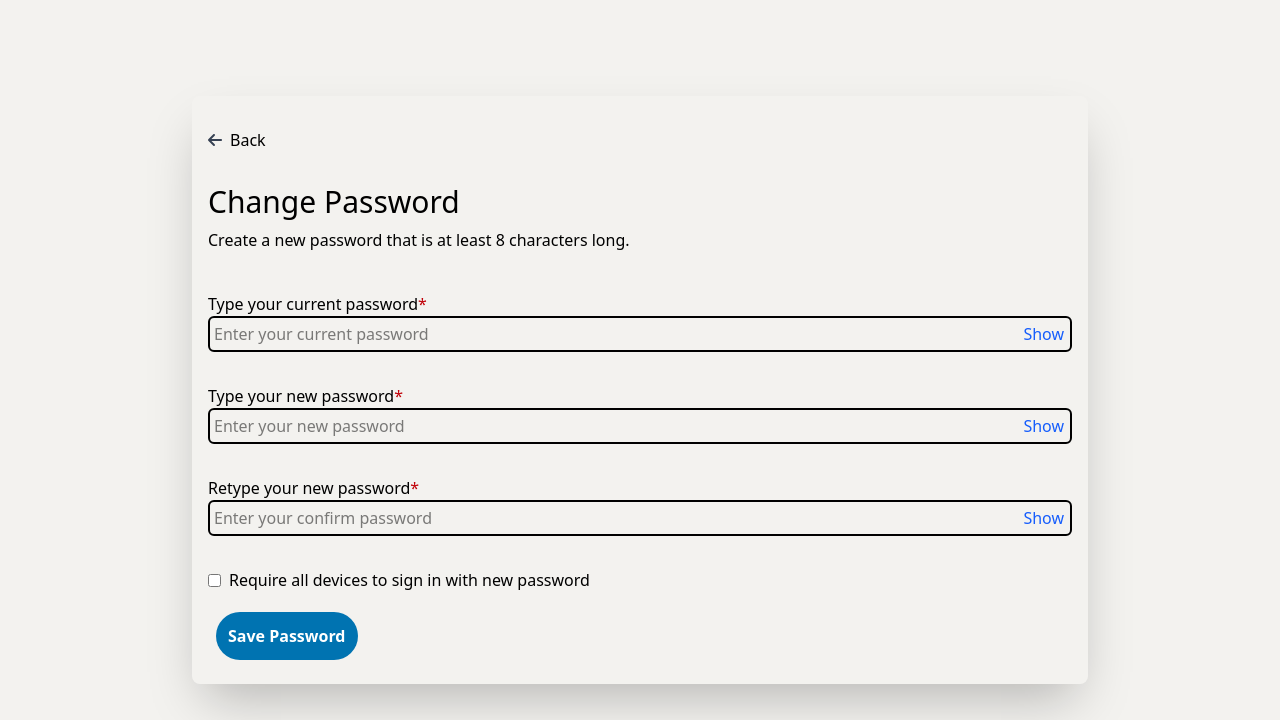
Test: UpdatePasswordForm › shows validation error when passwords don't match
Enter different passwords
In the password field labelled "Type your new password*": {"x": 640, "y": 426} [208,408,1072,444], type "Password123"
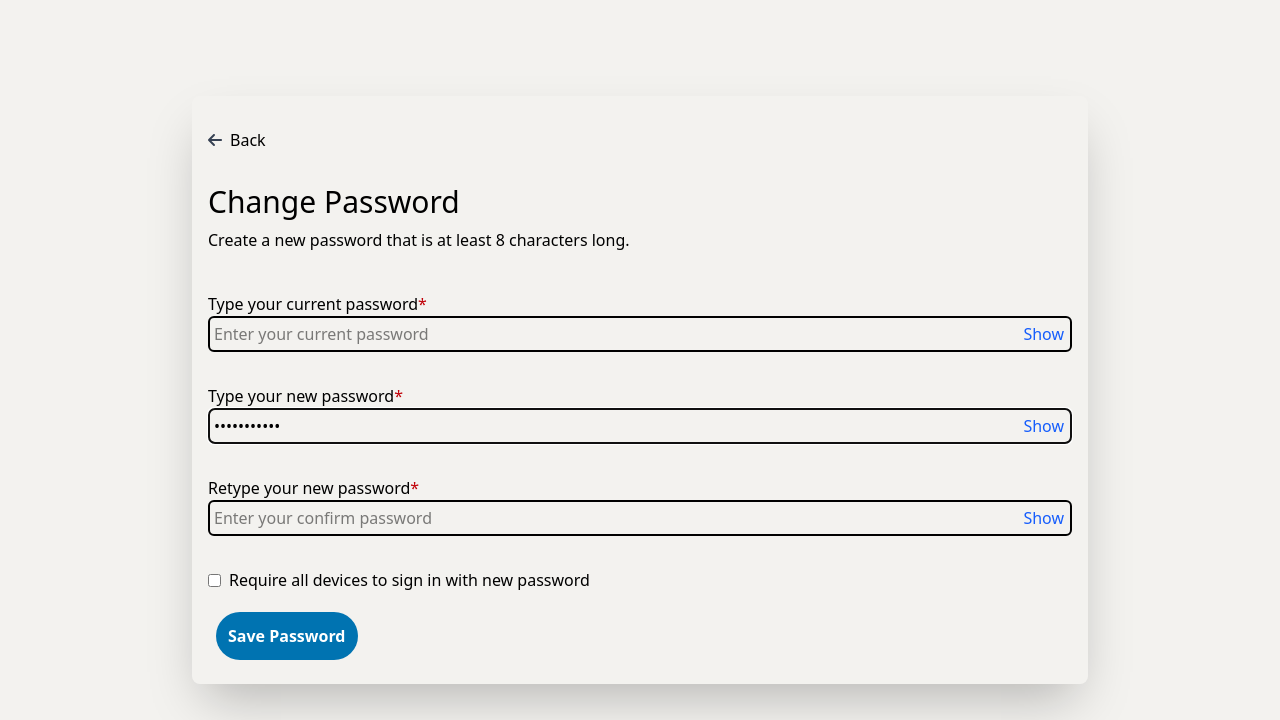
In the password field labelled "Retype your new password*": {"x": 640, "y": 518} [208,500,1072,536], type "DifferentPassword123"
(page scrolled)
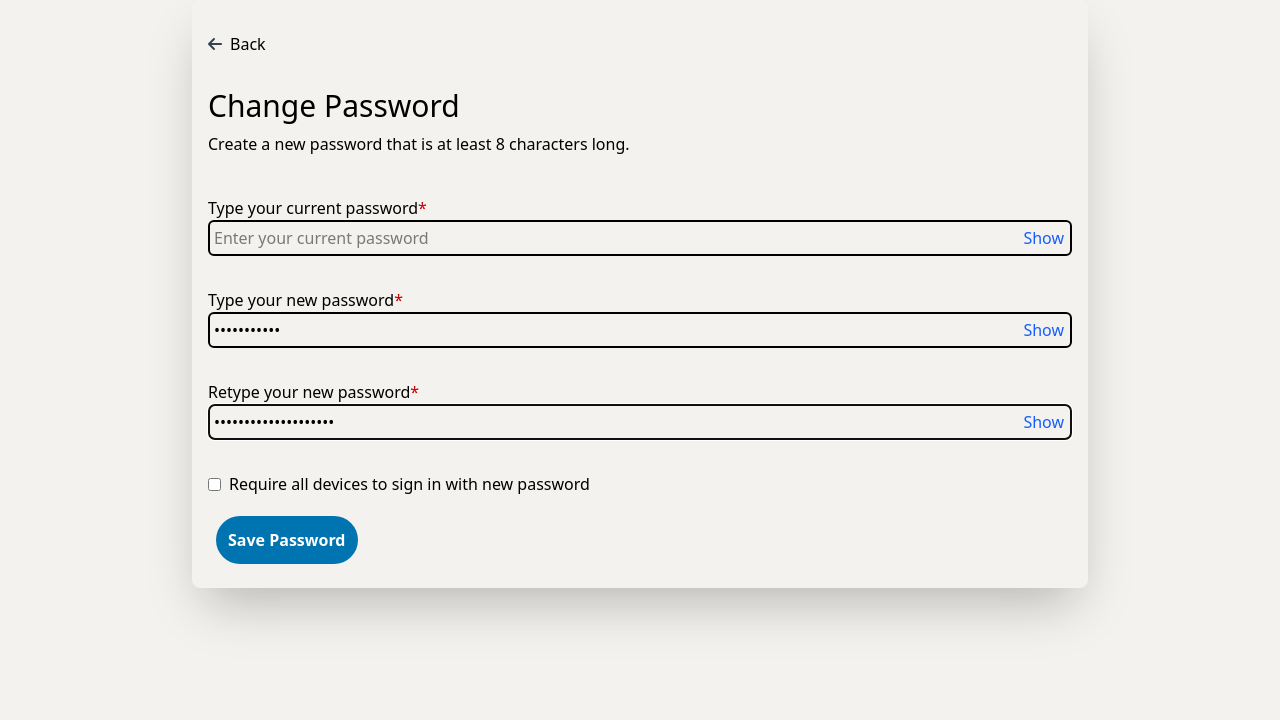
Click the element that starts with "Back": {"x": 640, "y": 677} [0,0,1279,719]
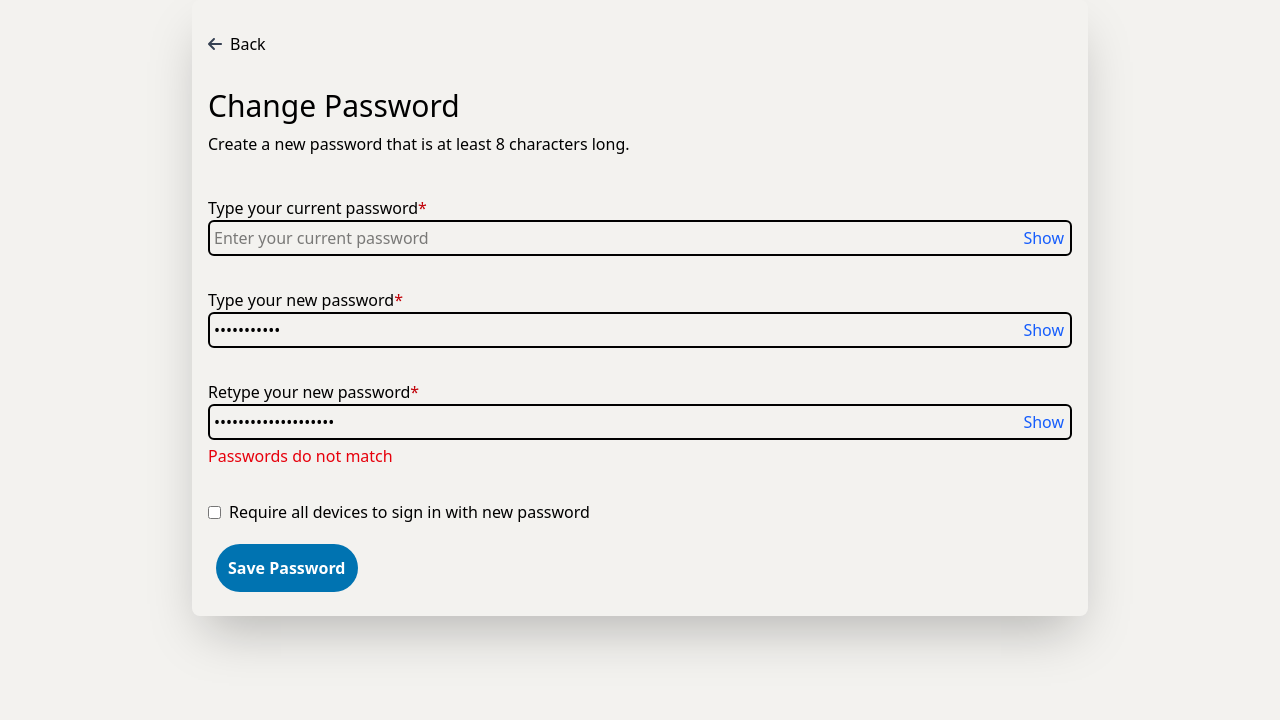
Check: the text "Passwords do not match" is shown, box [208,445,393,467]
